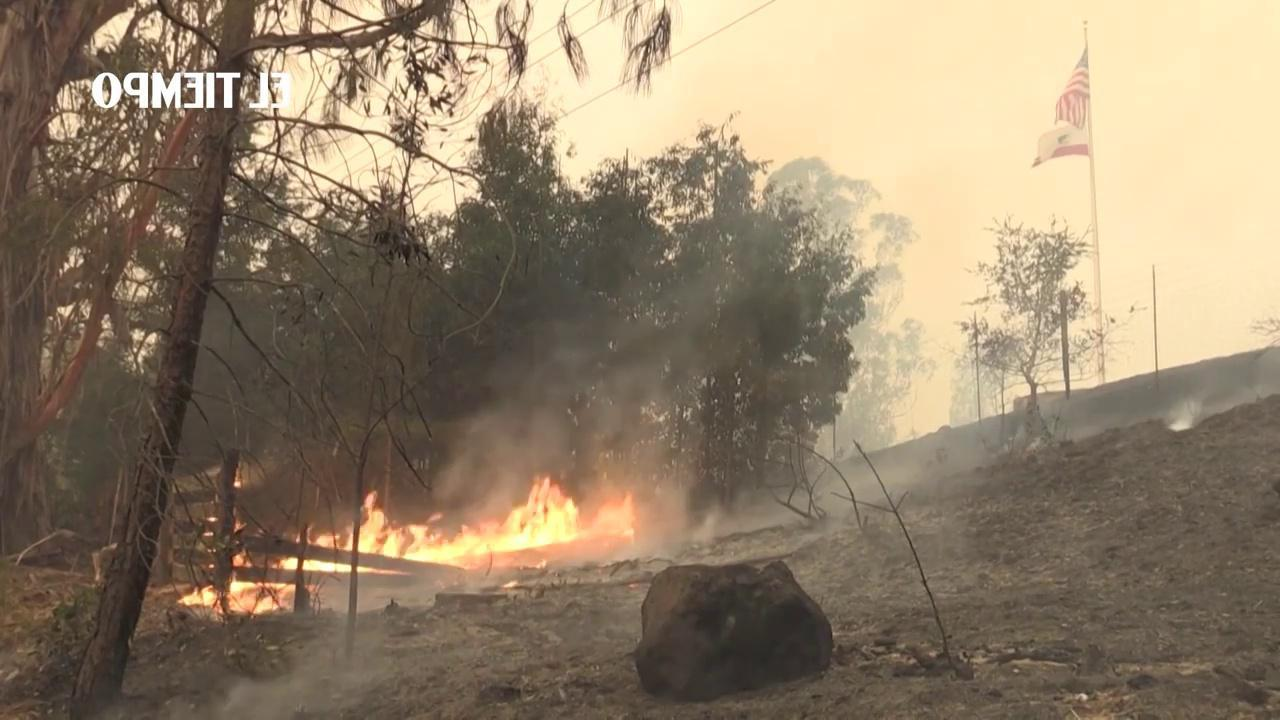Fire: (279, 473, 642, 569), (180, 581, 294, 616)
